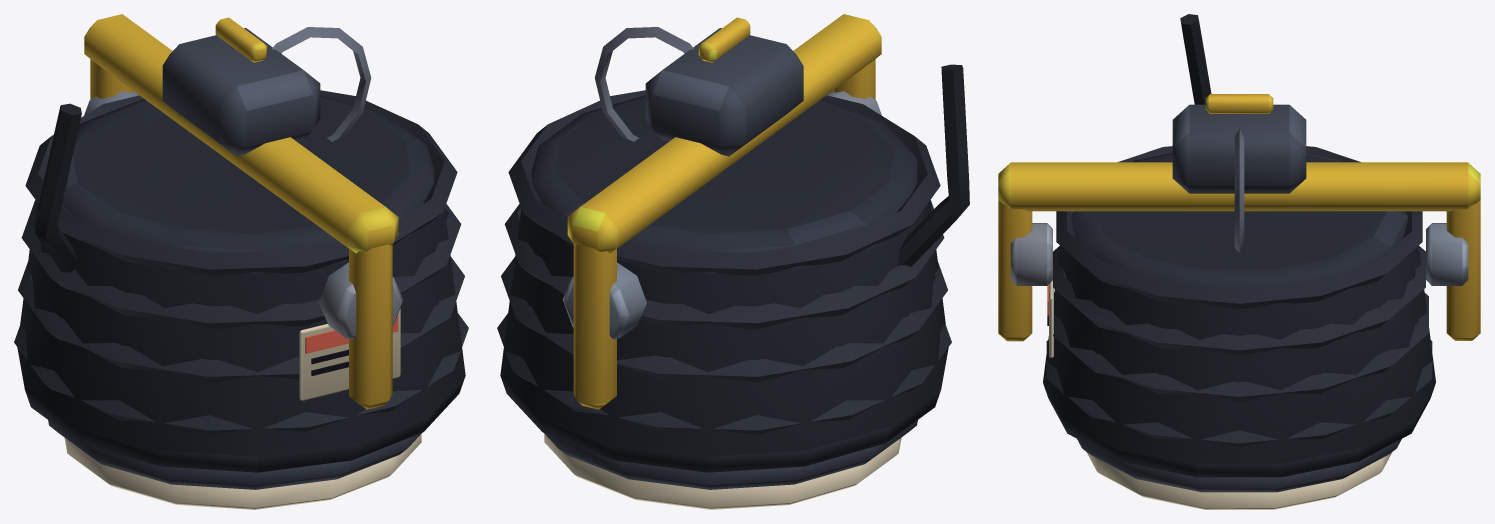
The model's file is SM_Stage4_WorkLight.fbx.
3 renders of one model, left to right at view 1: azimuth 30°, elevation 25°; view 2: azimuth 150°, elevation 25°; view 3: azimuth 270°, elevation 25°, orthographic. The views are drawn at different scales.
Parts seen in each view (by area): view 1: SM_Stage4_WorkLight; view 2: SM_Stage4_WorkLight; view 3: SM_Stage4_WorkLight.
Boxes of the visible parts, box(x1,y1,x2,y2) form: SM_Stage4_WorkLight: box(14, 14, 468, 509); SM_Stage4_WorkLight: box(497, 14, 969, 509); SM_Stage4_WorkLight: box(998, 14, 1480, 509).
Bounding box in the file's own units: 51.06 × 46.6 × 58.09.
